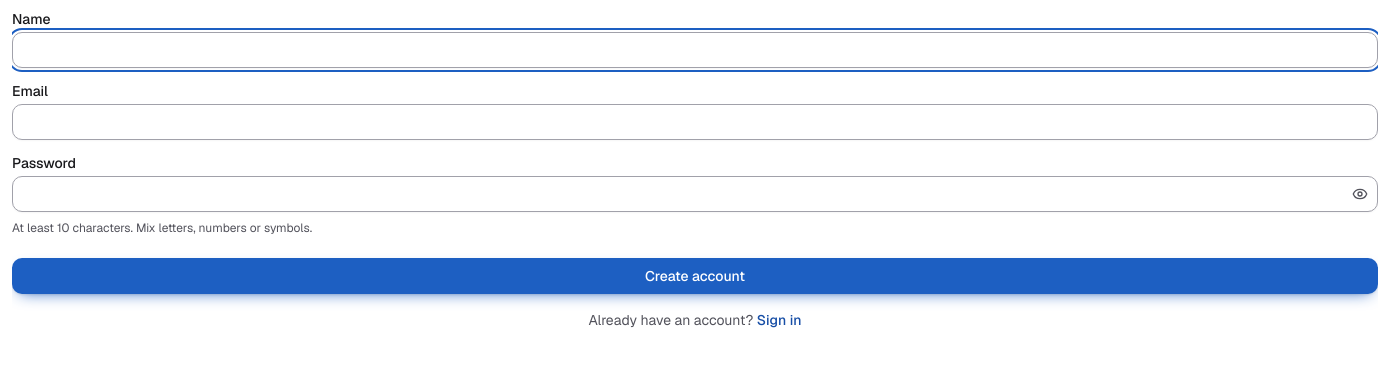
Test: RegisterForm › applies the API's password rules before submitting (short1!)
Type "Ada Lovelace" into the field labelled "Name" at (695, 50), box [12,32,1378,68]
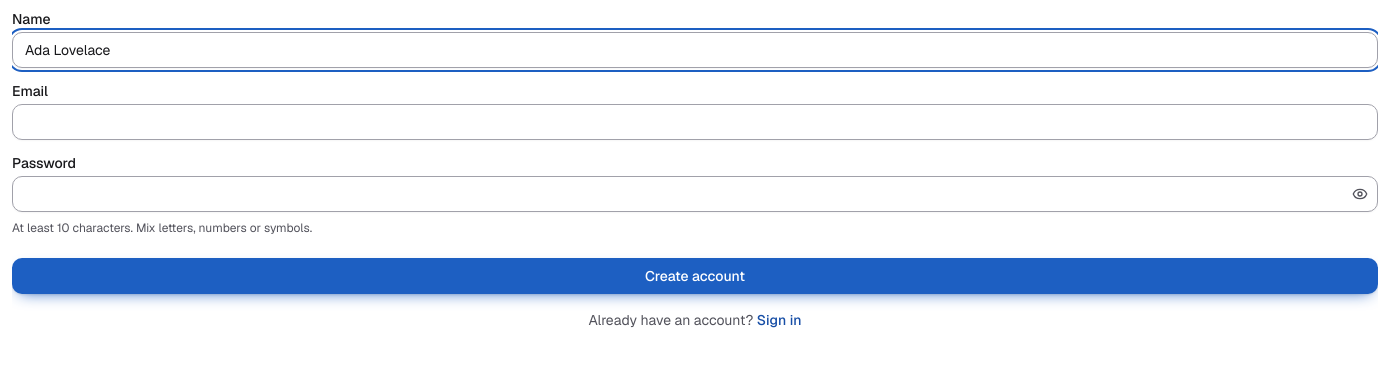
Type "ada@example.com" into the field labelled "Email" at (695, 122), box [12,104,1378,140]
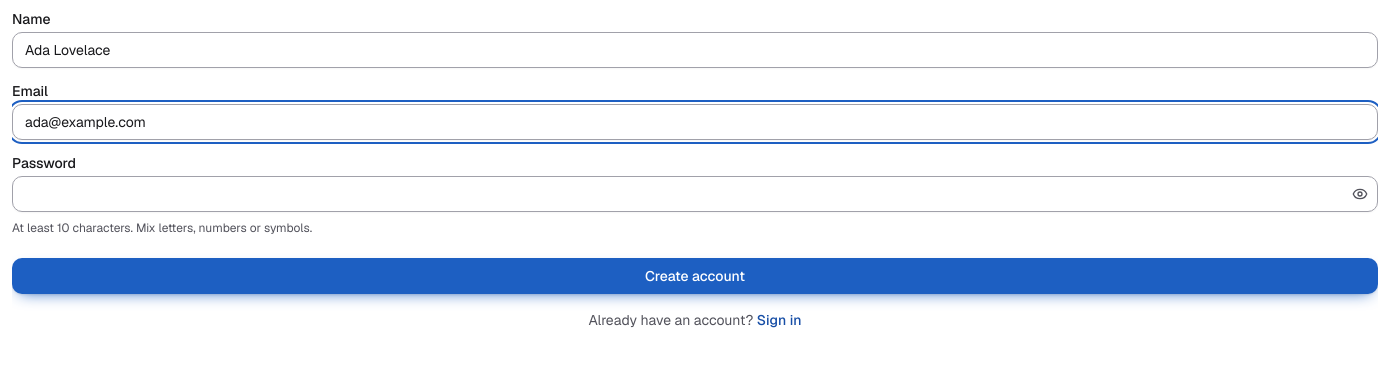
Type "short1!" into the password field labelled "Password" at (695, 194), box [12,176,1378,212]
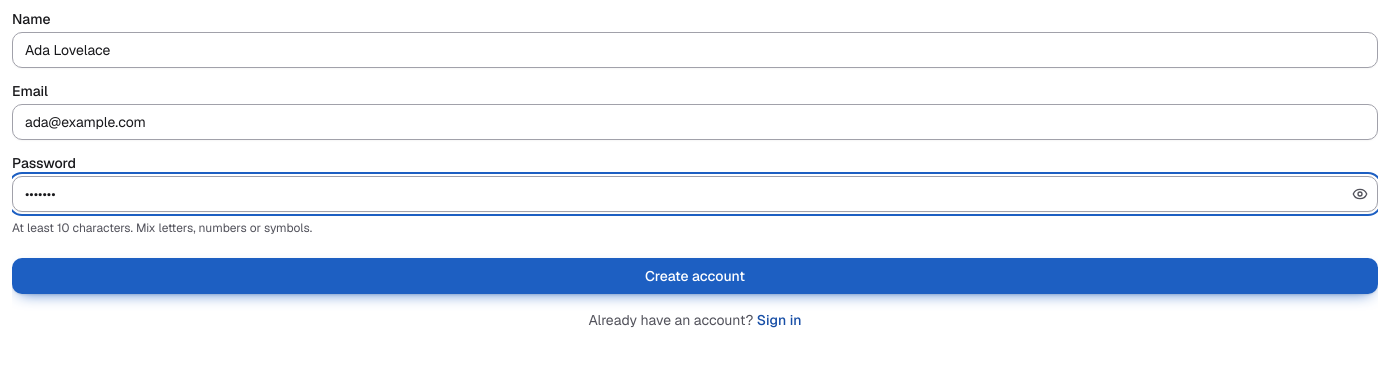
Click the button "Create account" at (695, 276), box [12,258,1378,294]
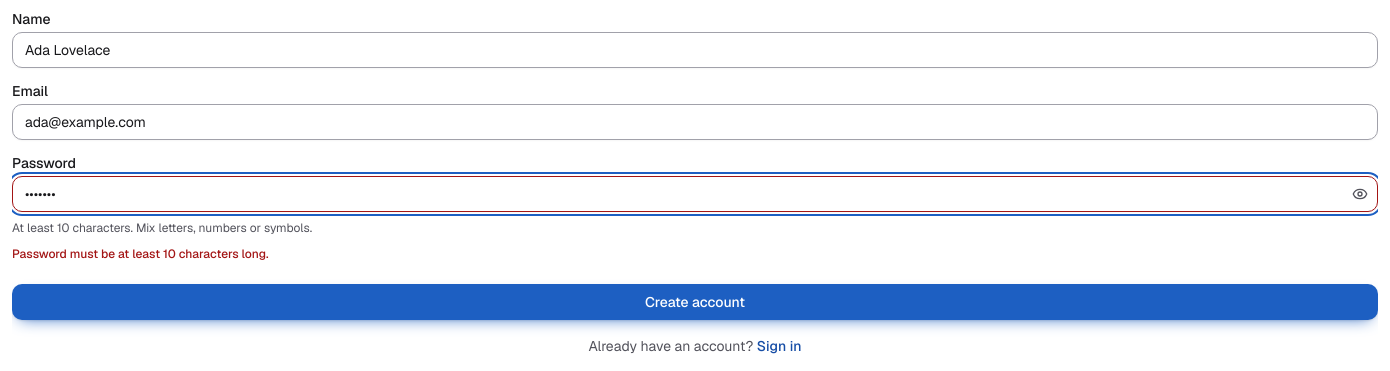
Expected: the text "Password must be at least 10 characters long." is shown, [12,246,269,262]
